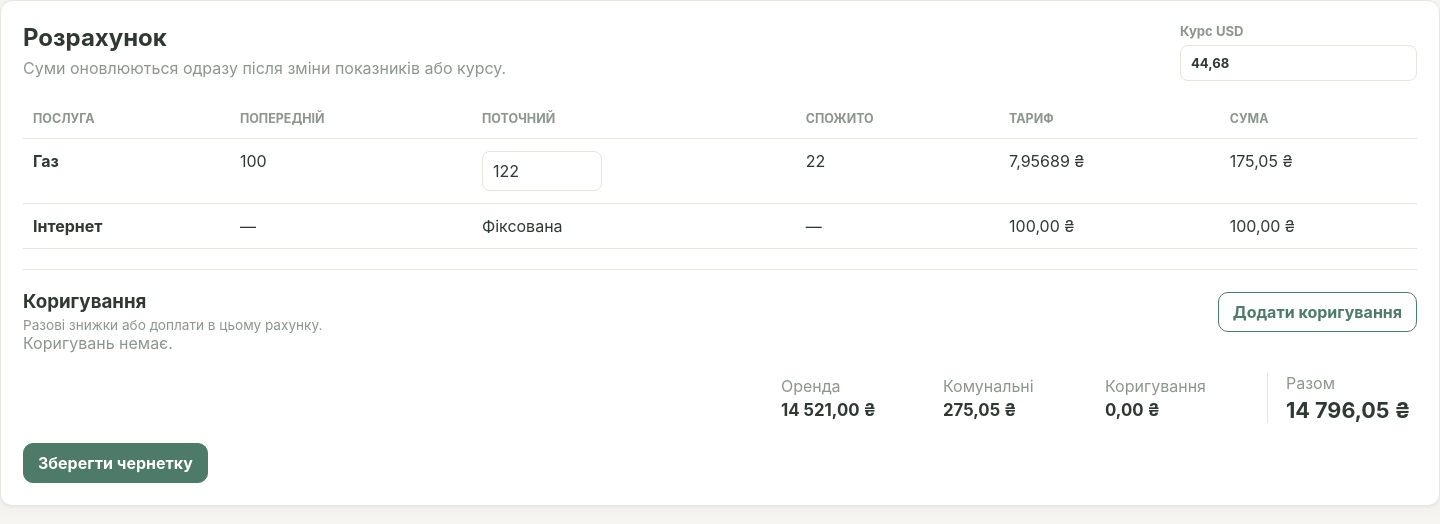
InvoiceCalculator › recalculates totals when a reading and exchange rate change
The image size is (1440, 524).
Expected: the text "14 796,05 ₴" is shown, [1286,397,1417,423]
Expected: the text "100" is shown, [230,138,472,204]
Replace the text in the field named "Поточний показник Газ" with "123": [542, 171] box [482,151,602,191]
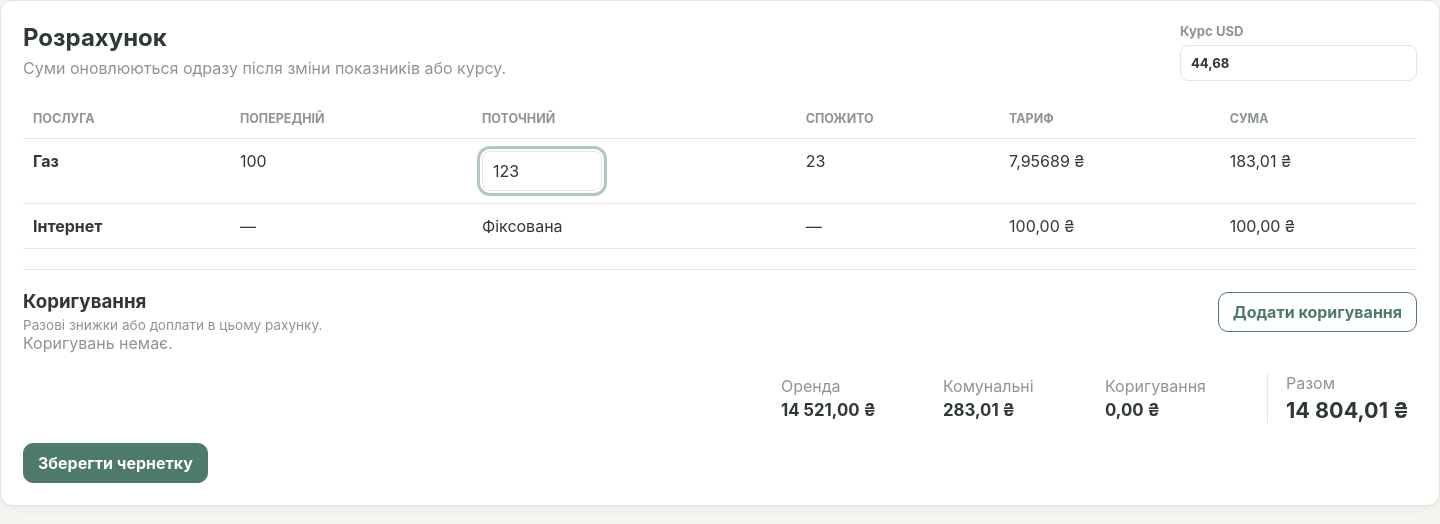
Now the text "183,01 ₴" is shown, box [1220,138,1417,204]
Now the text "14 804,01 ₴" is shown, box [1286,397,1417,423]
In the field labelled "Курс USD": [1298, 63] box [1180,45,1417,81], type "45"
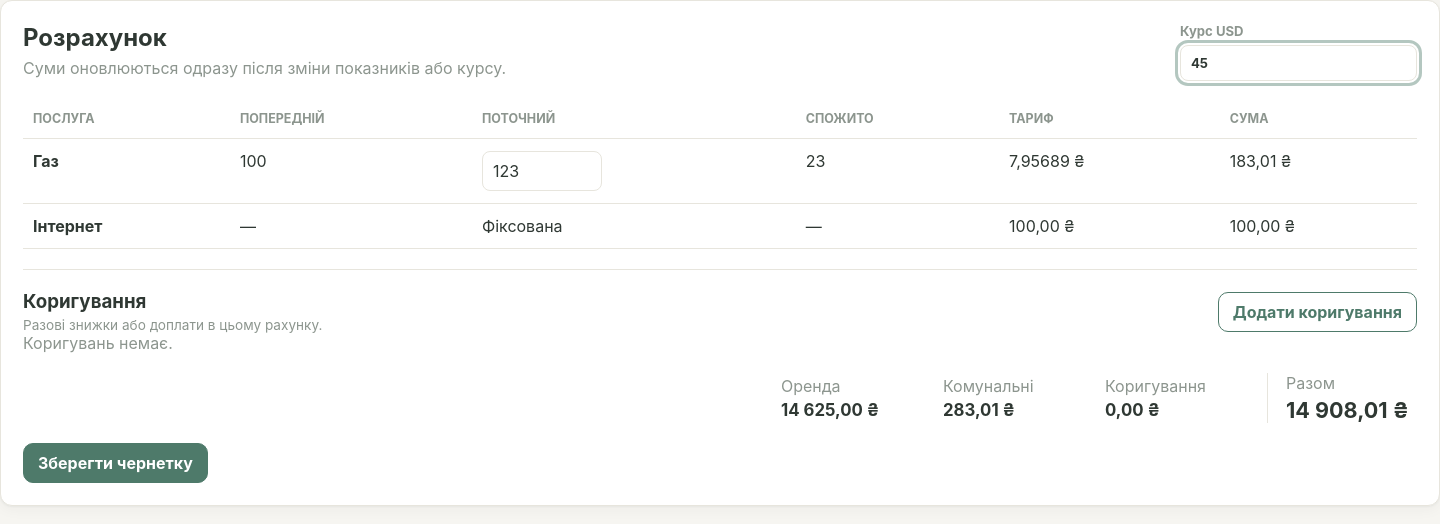
Now the text "14 908,01 ₴" is shown, box [1286,397,1417,423]
